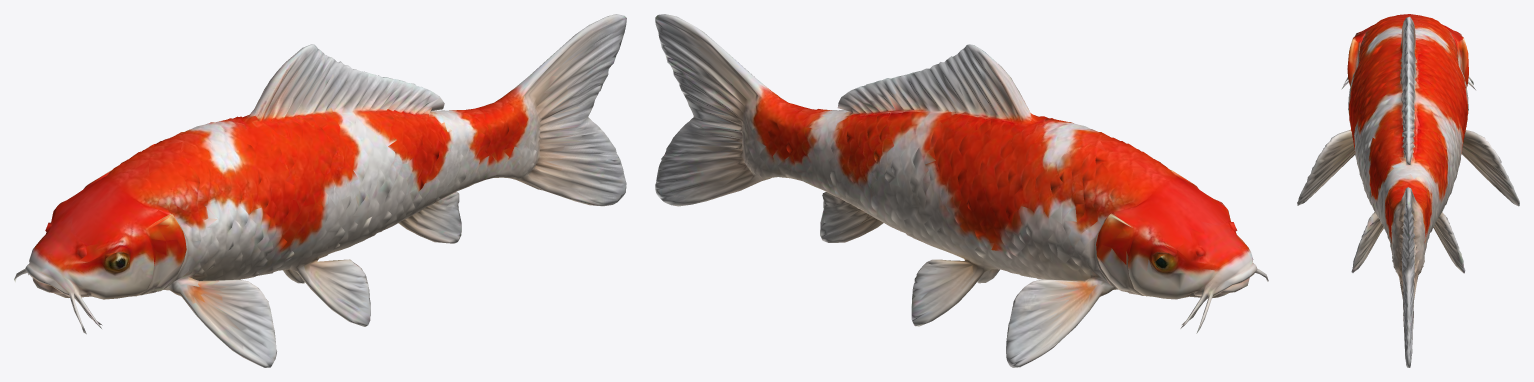
Rendered from koi.glb.
3 renders of one model, left to right at view 1: azimuth 30°, elevation 25°; view 2: azimuth 150°, elevation 25°; view 3: azimuth 270°, elevation 25°, orthographic. The views are drawn at different scales.
Visible parts, largest first — view 1: koi; view 2: koi; view 3: koi.
Part boxes in pixels (x1,y1,x2,y2): koi: (14,14,626,367); koi: (655,14,1268,367); koi: (1297,14,1519,367).
Size of the model in its own units: 0.9788 by 0.4175 by 0.3454.
1 material, 1 textured.
